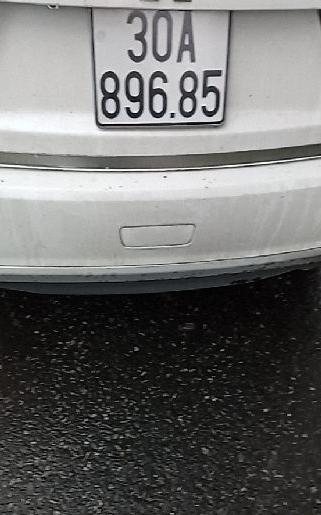Plate-iWeP: (88, 3, 233, 132)
